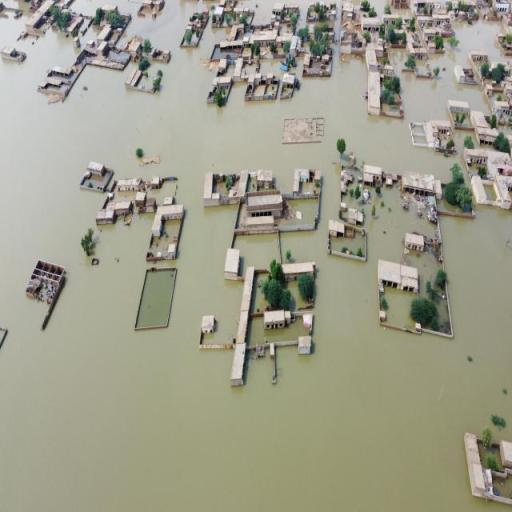flood: (0, 0, 512, 512), (238, 0, 362, 25), (453, 129, 494, 185), (137, 271, 175, 327), (246, 316, 309, 346), (402, 250, 440, 296), (382, 287, 417, 330), (70, 0, 142, 18), (274, 198, 318, 226), (149, 220, 180, 256), (330, 232, 365, 254), (147, 181, 178, 205), (251, 273, 269, 312), (478, 443, 502, 468), (287, 280, 308, 308), (79, 24, 102, 48), (116, 20, 135, 48), (138, 66, 157, 92), (258, 59, 284, 76), (494, 476, 512, 498), (391, 47, 408, 70), (437, 198, 462, 212), (289, 53, 303, 78), (370, 0, 390, 16), (81, 176, 106, 188), (437, 299, 448, 324), (299, 181, 320, 193), (114, 191, 136, 201), (484, 184, 496, 200), (297, 20, 320, 28), (213, 182, 228, 194), (391, 8, 409, 18), (243, 64, 256, 72), (226, 65, 235, 76), (0, 329, 4, 346)
house: (23, 258, 67, 308), (379, 256, 420, 293), (242, 188, 286, 219), (400, 172, 442, 195), (96, 200, 131, 225), (282, 262, 317, 284), (447, 97, 472, 125), (368, 70, 382, 118), (495, 438, 512, 476), (263, 309, 293, 330), (417, 15, 452, 33), (426, 120, 452, 144), (494, 176, 512, 210), (360, 162, 382, 187), (404, 228, 424, 254), (158, 204, 185, 222), (466, 147, 488, 167), (492, 98, 512, 120), (1, 46, 26, 63), (248, 72, 278, 86), (136, 192, 154, 214), (117, 178, 144, 192), (138, 1, 164, 15), (50, 64, 74, 78), (491, 0, 512, 16), (220, 39, 244, 52), (282, 72, 299, 90), (189, 10, 206, 28), (88, 162, 105, 180), (211, 4, 224, 26), (254, 32, 274, 46), (361, 18, 381, 32), (470, 50, 488, 64), (384, 14, 398, 28), (272, 2, 285, 17)
